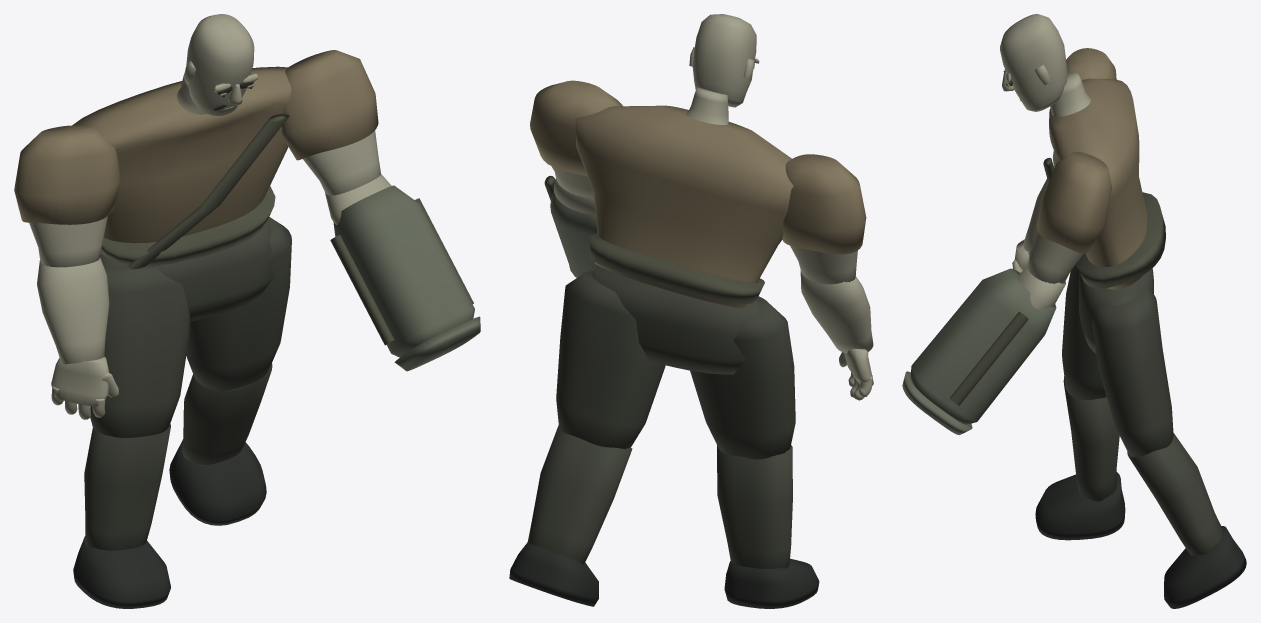
Rendered from enemy-lab-siege.glb.
3 views of the same model, side by side, from view 1: azimuth 30°, elevation 25°; view 2: azimuth 150°, elevation 25°; view 3: azimuth 270°, elevation 25° (orthographic). The views are drawn at different scales.
Visible parts, largest first — view 1: Chest, Crushing gauntlet, Trouser thigh_L, Short sleeve_L, Trouser thigh_R, Trouser shin_L, Short sleeve_R, Waist, Forearm anatomy_L, Shoe_R, Trouser shin_R, Shoe_L (+9 smaller); view 2: Chest, Trouser thigh_R, Trouser thigh_L, Waist, Trouser shin_R, Trouser shin_L, Short sleeve_L, Short sleeve_R, Anatomical head, Reinforced waist, Forearm anatomy_L, Shoe_L (+7 smaller); view 3: Crushing gauntlet, Chest, Trouser thigh_R, Short sleeve_R, Trouser shin_R, Anatomical head, Trouser shin_L, Shoe_L, Shoe_R, Trouser thigh_L, Reinforced waist, Waist (+7 smaller).
Boxes of the visible parts, box(x1,y1,x2,y2) form: Chest: box(72, 66, 291, 253); Crushing gauntlet: box(333, 185, 474, 357); Trouser thigh_L: box(90, 268, 190, 437); Short sleeve_L: box(14, 125, 120, 224); Trouser thigh_R: box(186, 217, 291, 390); Trouser shin_L: box(84, 424, 170, 550); Short sleeve_R: box(281, 50, 378, 160); Waist: box(100, 221, 274, 321); Forearm anatomy_L: box(37, 258, 109, 364); Shoe_R: box(169, 439, 266, 525); Trouser shin_R: box(182, 363, 272, 464); Shoe_L: box(73, 536, 170, 608); Chest: box(575, 105, 793, 308); Trouser thigh_R: box(556, 271, 665, 449); Trouser thigh_L: box(690, 296, 795, 459); Waist: box(592, 266, 760, 374); Trouser shin_R: box(527, 425, 632, 564); Trouser shin_L: box(717, 445, 792, 568); Short sleeve_L: box(782, 154, 866, 254); Short sleeve_R: box(530, 80, 622, 176); Anatomical head: box(692, 14, 756, 107); Reinforced waist: box(590, 233, 764, 303); Forearm anatomy_L: box(800, 271, 873, 353); Shoe_L: box(724, 558, 819, 608); Crushing gauntlet: box(910, 268, 1056, 424); Chest: box(1049, 78, 1147, 289); Trouser thigh_R: box(1091, 287, 1173, 457); Short sleeve_R: box(1036, 152, 1111, 253); Trouser shin_R: box(1127, 432, 1223, 555); Anatomical head: box(1000, 14, 1067, 111); Trouser shin_L: box(1063, 376, 1119, 501); Shoe_L: box(1035, 472, 1125, 540); Shoe_R: box(1164, 526, 1246, 608); Trouser thigh_L: box(1062, 265, 1106, 400); Reinforced waist: box(1075, 192, 1165, 288); Waist: box(1078, 268, 1153, 353).
Size of the model in its own units: 1.16 by 1.67 by 0.9553.
